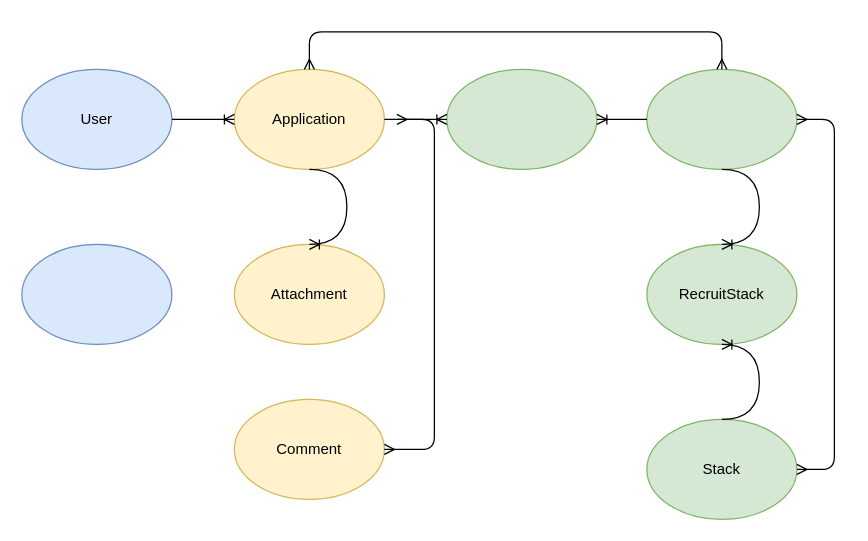
This 868x541 diagram has some shape labels left out. The shapes that lost their labels are listed below. From the top down, each one's box as (x1, y1, x2, y2) in pixels, then its label:
(446, 68, 597, 169): RecruitApplication
(646, 68, 797, 169): Recruit
(21, 243, 172, 344): UserTemp
